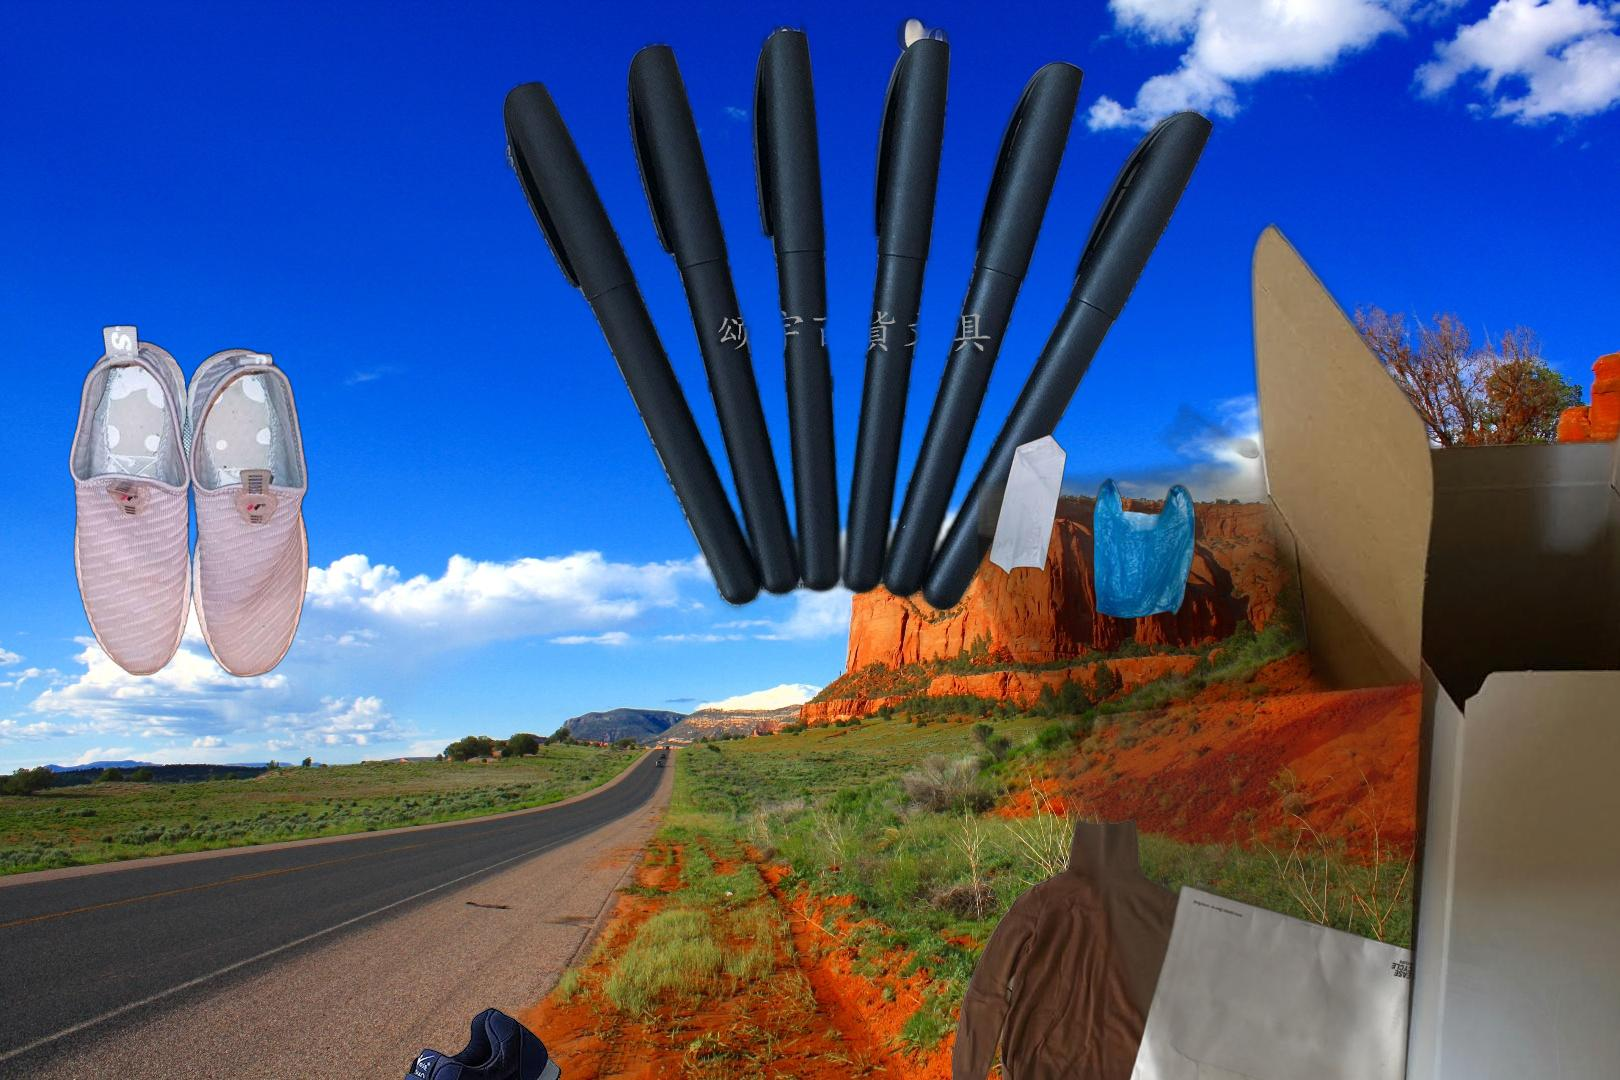clothes: (946, 815, 1281, 1080)
paper: (1123, 877, 1524, 1080)
penholder: (456, 10, 1221, 728)
plastic-bag: (986, 400, 1261, 620)
shoes: (65, 319, 312, 682), (356, 1006, 565, 1080)
trashbox-cardboard: (978, 223, 1620, 1080)
